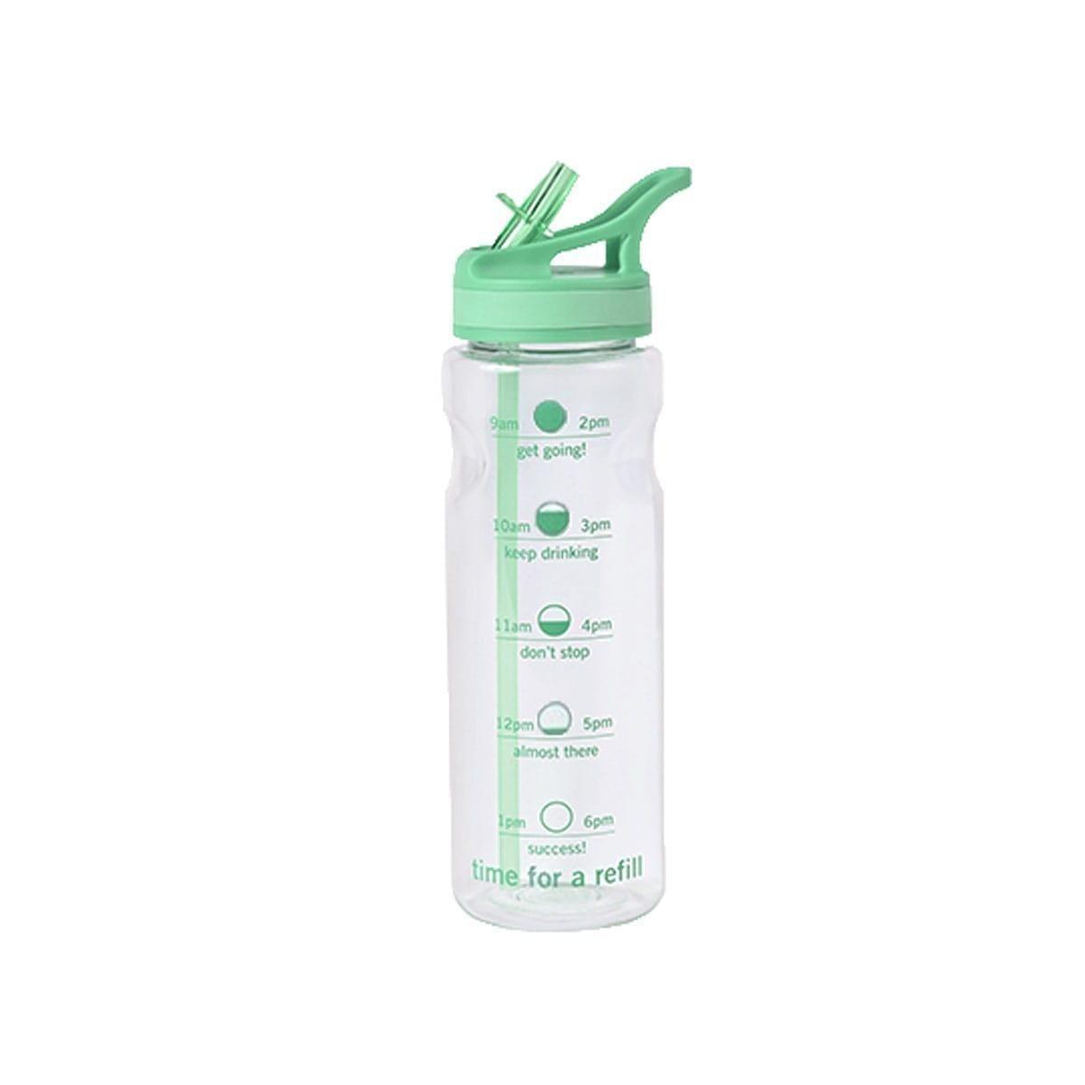gym bottle: (430, 156, 694, 941)
